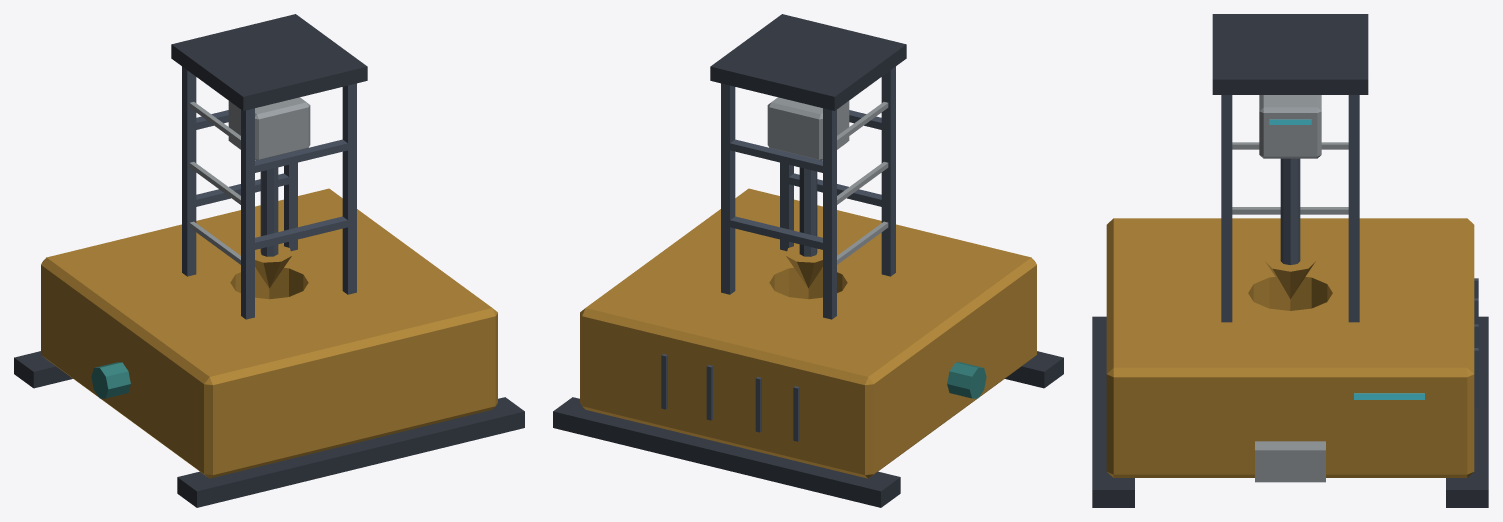
Rendered from electric_mining_drill.obj.
3 renders of one model, left to right at view 1: azimuth 30°, elevation 25°; view 2: azimuth 150°, elevation 25°; view 3: azimuth 270°, elevation 25°, orthographic. The views are drawn at different scales.
Visible parts, largest first — view 1: body, part; view 2: body, part; view 3: body, part.
Part boxes in pixels (box(x1,y1,x2,y2)): body: box(14, 14, 524, 507); part: box(228, 97, 310, 288); body: box(553, 14, 1063, 507); part: box(767, 97, 849, 288); body: box(1092, 14, 1488, 507); part: box(1259, 95, 1321, 298).
Bounding box in the file's own units: 2.95 × 2.92 × 2.8.
